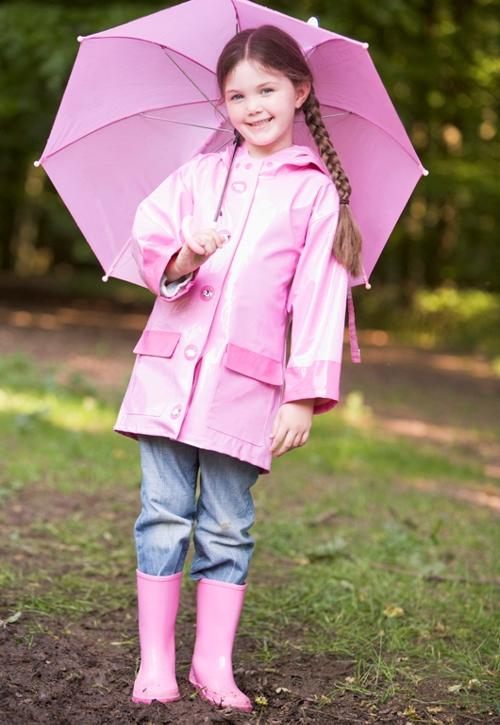person: (111, 25, 364, 711)
